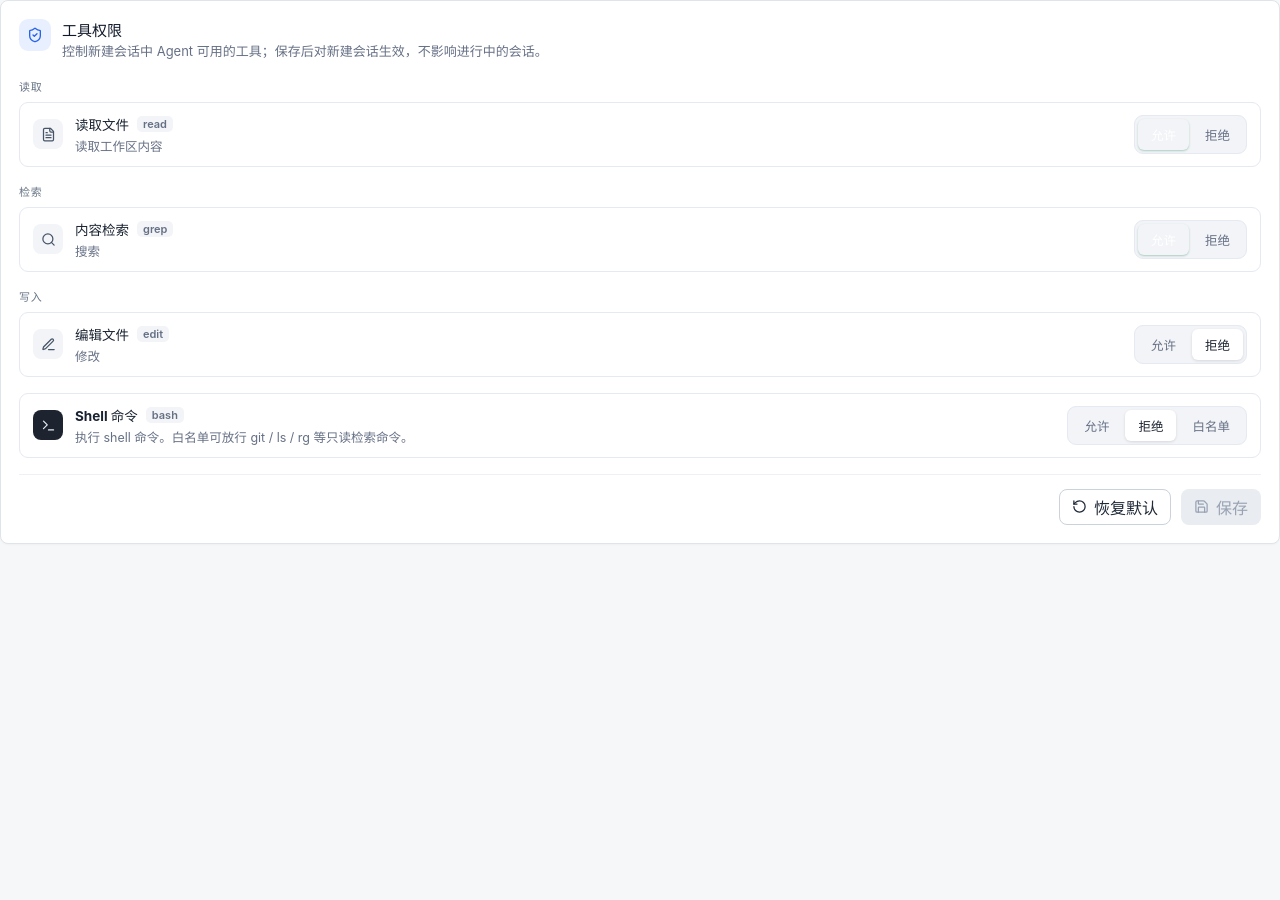
OpencodeToolPermissionsPanel › saves a toggled tool through the confirm dialog
Expected: the text "编辑文件" is shown, 75,326 -> 129,342
Click the radio button labelled "允许" in the row of "edit": x=1164, y=344 1138,328 -> 1189,360
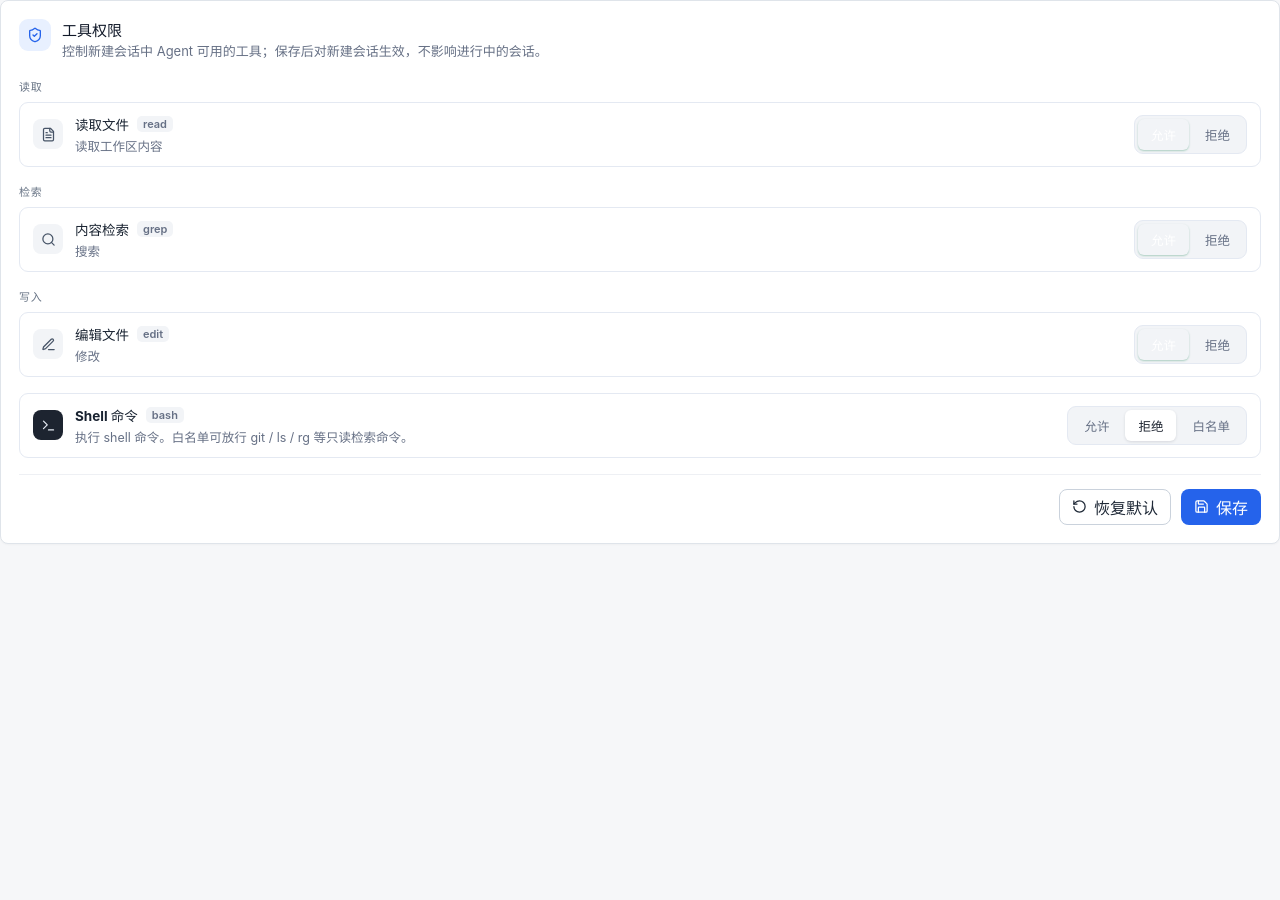
Now the button "保存" is enabled
Click the button "保存": x=1221, y=506 1181,488 -> 1261,524
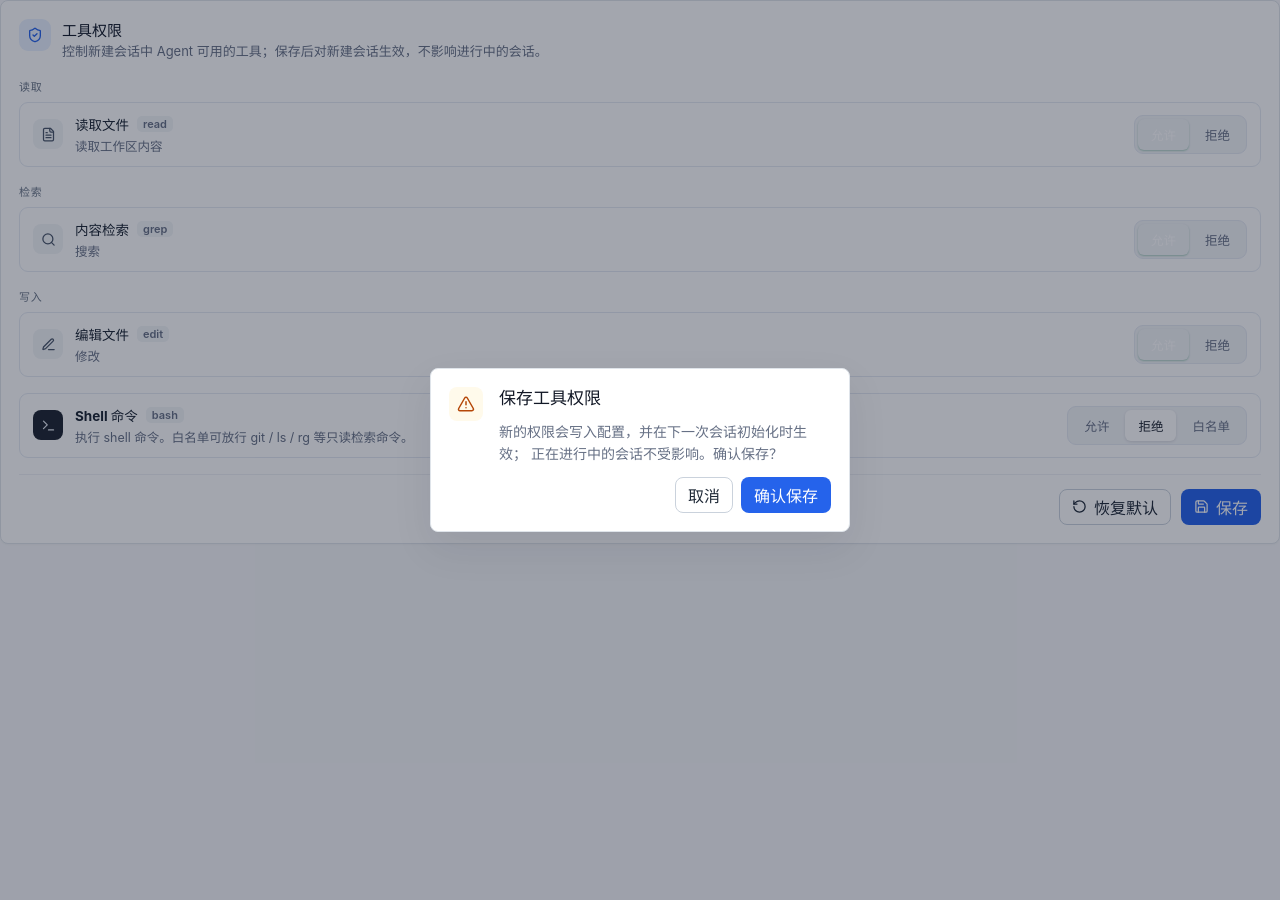
Click the button "确认保存": x=786, y=495 741,477 -> 831,513
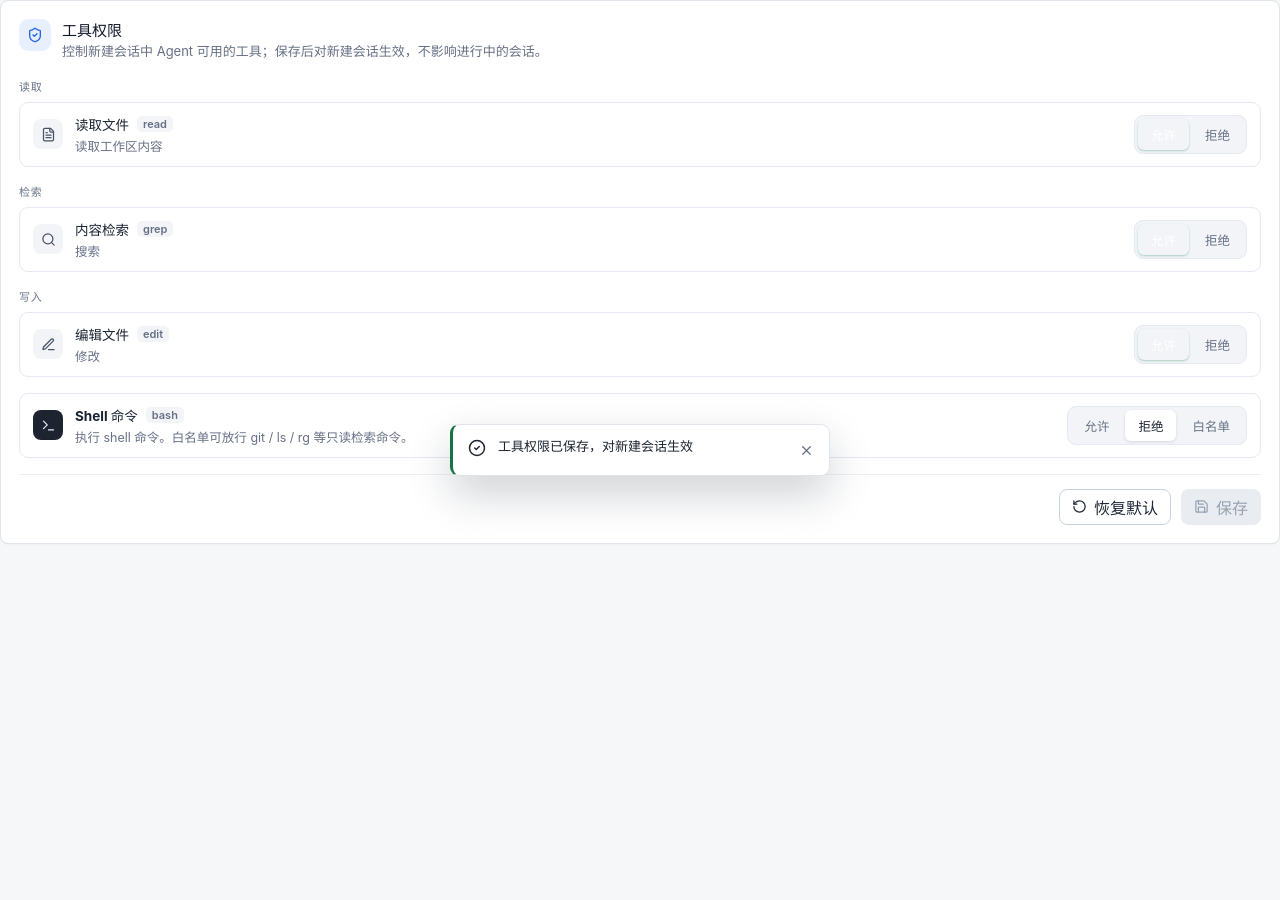
Now the text "工具权限已保存，对新建会话生效" is shown, box 498,438 -> 693,454
